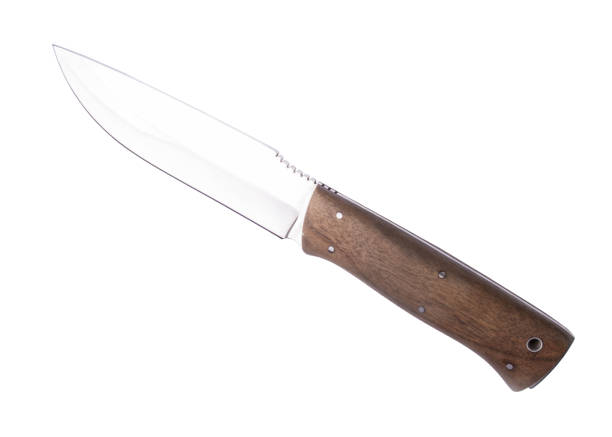knife: (49, 40, 576, 394)
